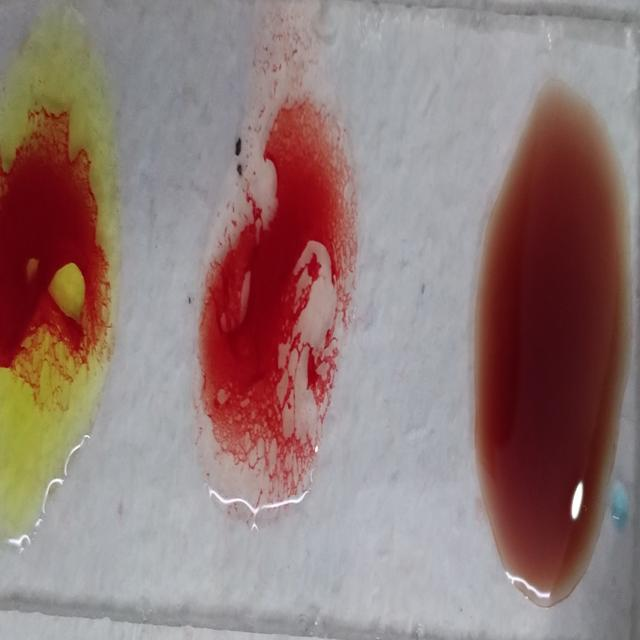B: (2, 12, 115, 571)
D: (201, 37, 354, 508)
